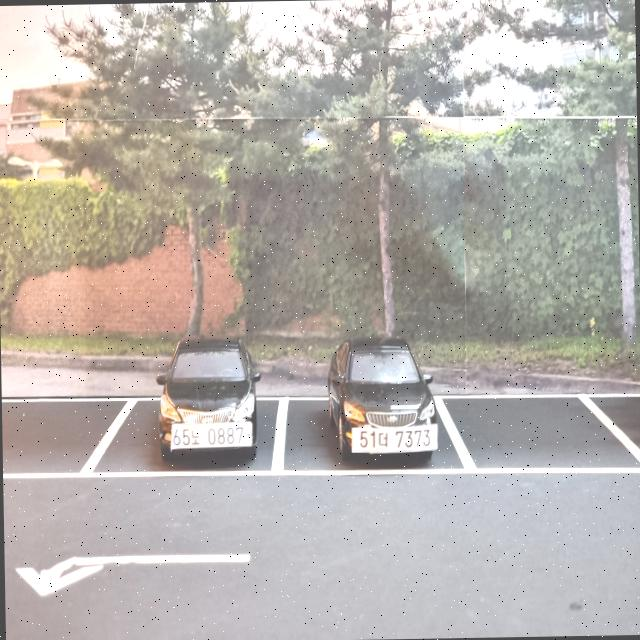empty: (458, 392, 640, 475), (1, 388, 137, 482)
occupied: (290, 320, 468, 472), (124, 319, 276, 467)
